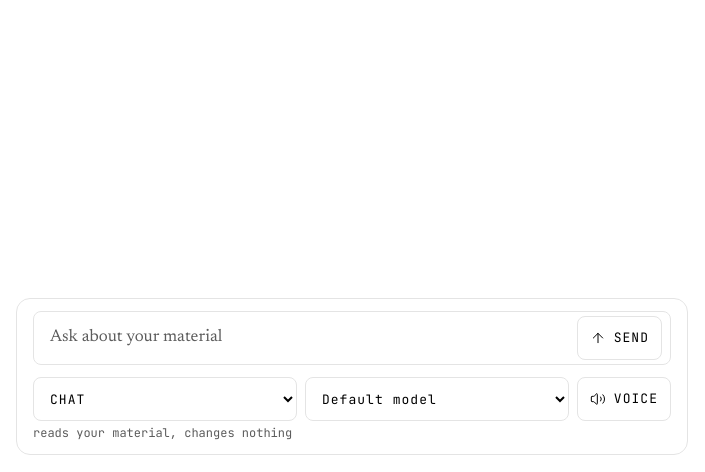
Test: the agent dock › the conversations › opens the conversation that was chosen
Step 1. Click the text box labelled "Ask about your material" → (305, 338), box [42,316,569,360]
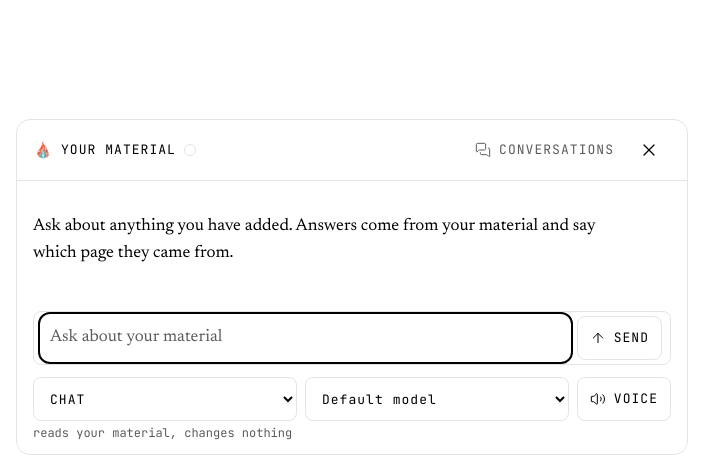
Step 2. Click the button "Conversations" → (545, 150), box [466,128,623,172]
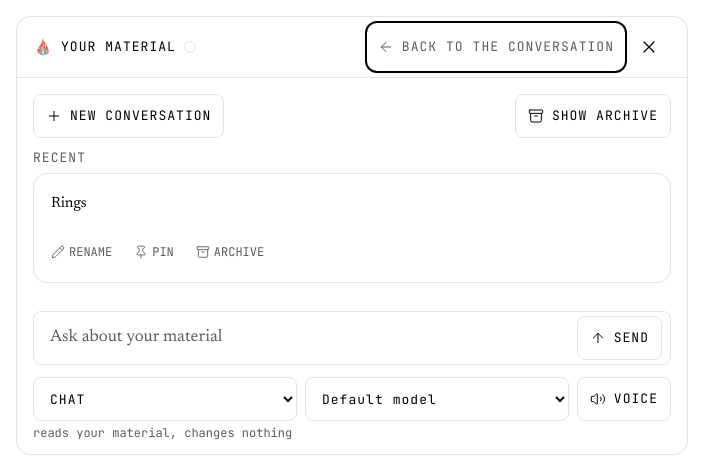
Step 3. Click the button "Rings" → (69, 204), box [42,182,662,226]
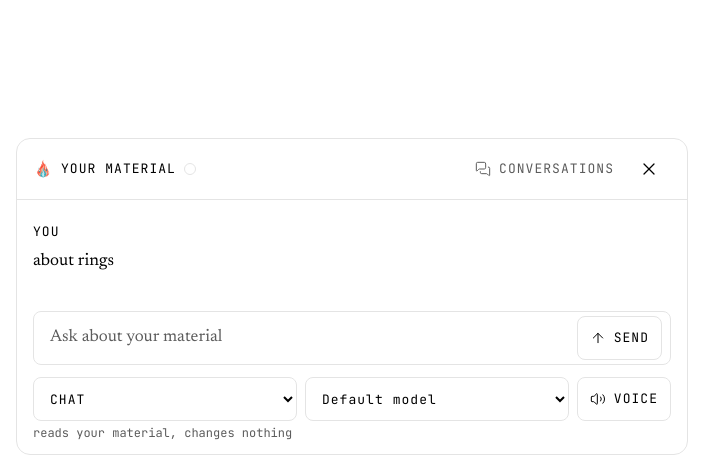
Now the text "about rings" is shown, box [33,253,114,270]
